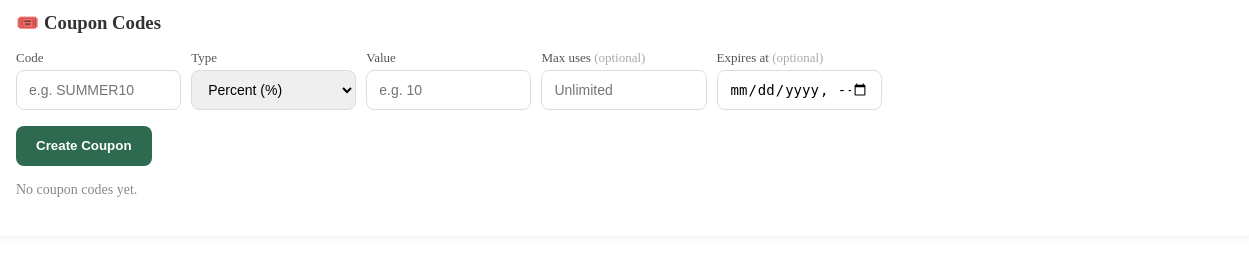
CouponManager — create coupon › shows a success alert after creation
The width and height of the screenshot is (1249, 262).
Type "SAVE20" into the field labelled "Code" at (99, 90), box [16, 70, 181, 110]
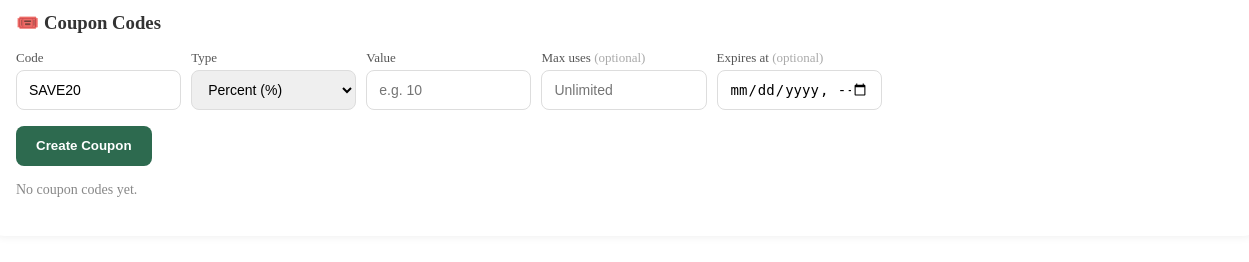
Type "20" into the number field labelled "Value" at (449, 90), box [366, 70, 531, 110]
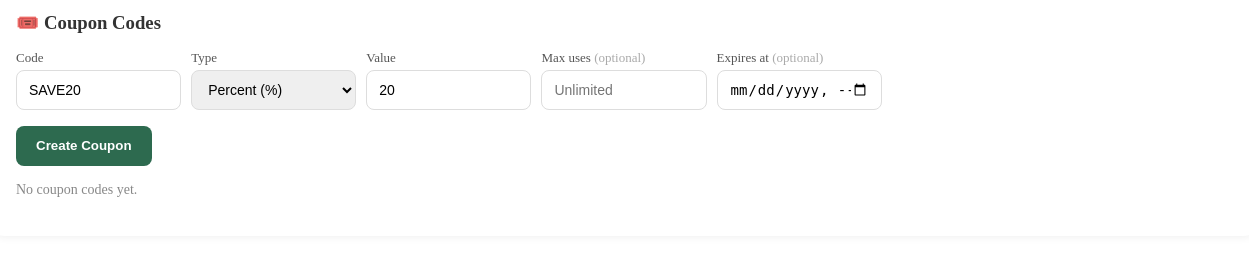
Submit the form "Create Coupon", box [16, 50, 882, 166]
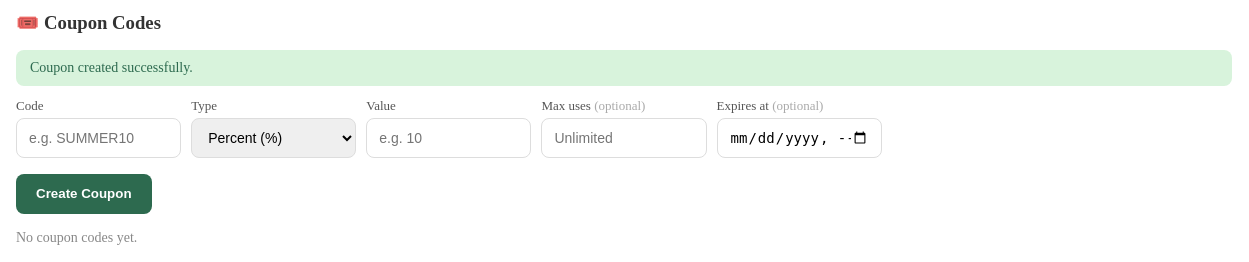
Now the message shows "created successfully", box [30, 60, 193, 75]
